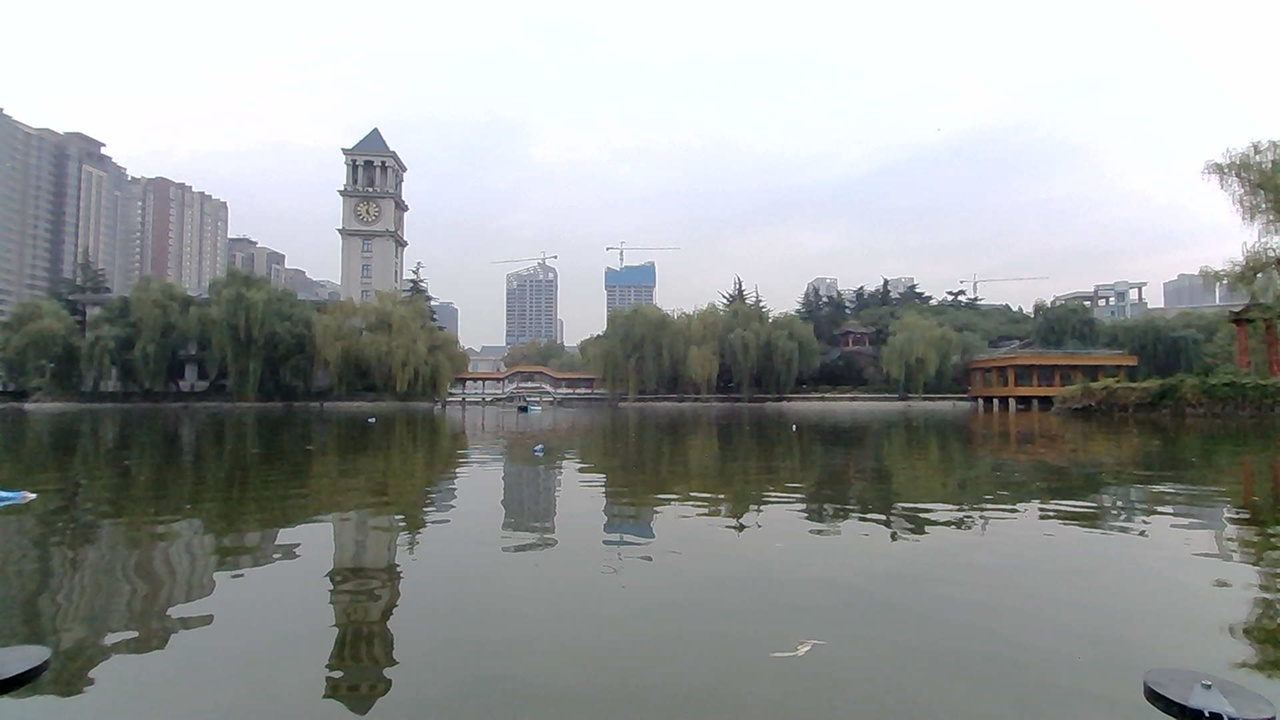bottle: (528, 430, 569, 459), (783, 412, 814, 433), (358, 408, 384, 427)
